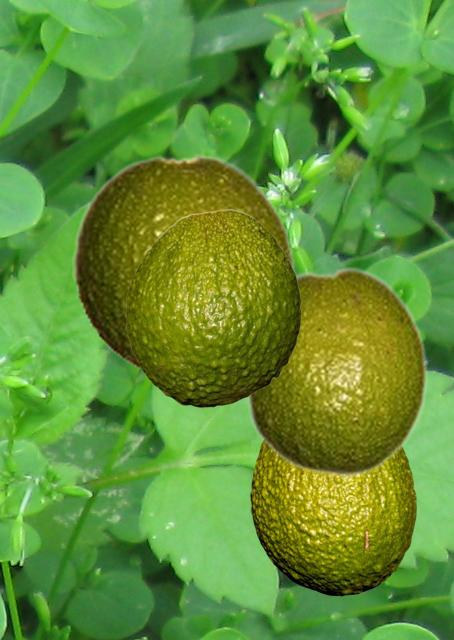avocado: (72, 154, 296, 376), (242, 265, 428, 478), (125, 209, 300, 406), (250, 442, 415, 595)
